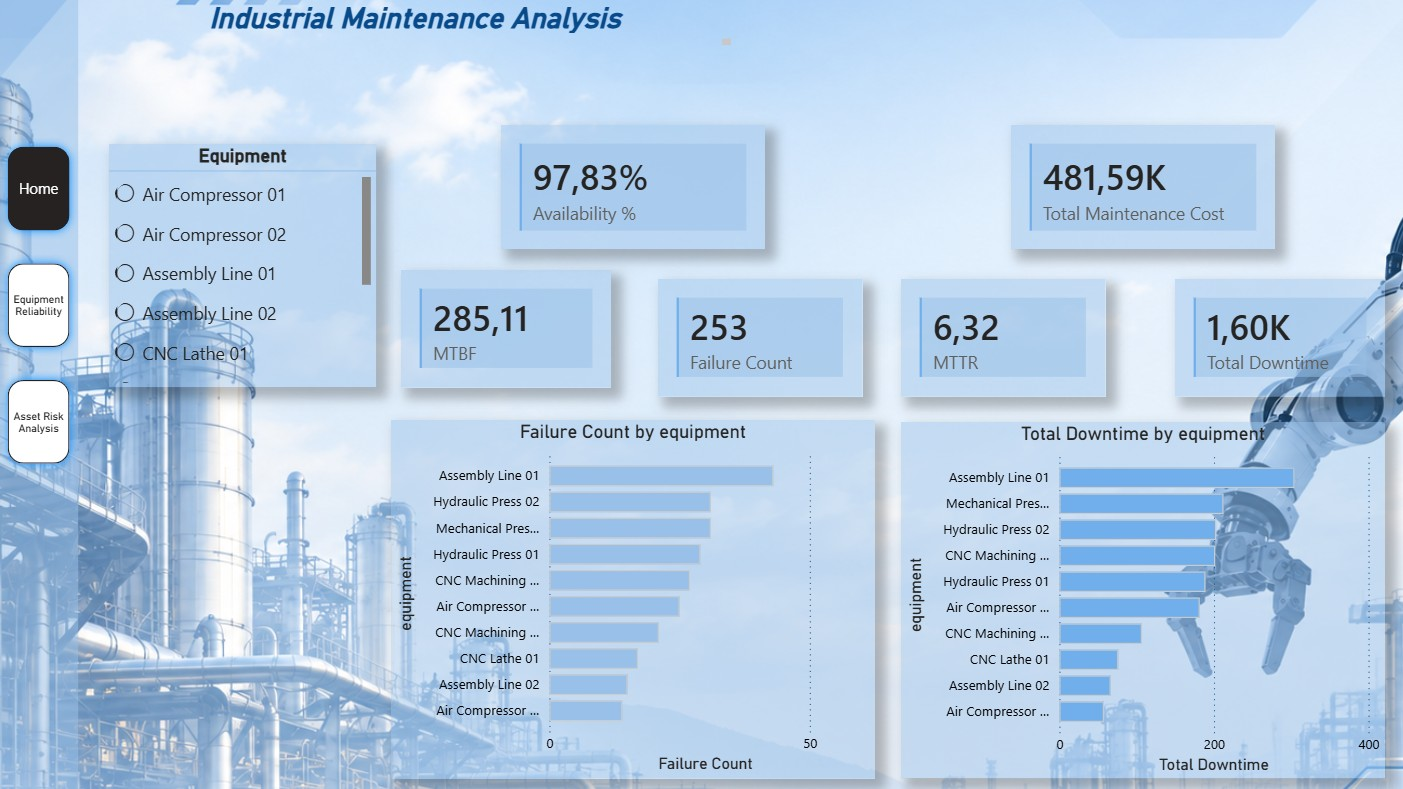

What the dashboard file says about the page in this screenshot:
{"tool":"powerbi","page":{"name":"Home","canvas":[1280,720],"ordinal":0},"visuals":[{"type":"cardVisual","fields":{"Data":["maintenance_orders.Failure Count"]},"box":[598.9,253.3,185.6,106.7],"z":0},{"type":"cardVisual","fields":{"Data":["maintenance_orders.Total Downtime"]},"box":[1068.9,253.3,191.1,106.7],"z":1000},{"type":"cardVisual","fields":{"Data":["maintenance_orders.Total Maintenance Cost"]},"box":[920,113.3,240,113.3],"z":2000},{"type":"cardVisual","fields":{"Data":["maintenance_orders.MTBF"]},"box":[365.6,245.6,191.1,106.7],"z":3000},{"type":"cardVisual","fields":{"Data":["maintenance_orders.MTTR"]},"box":[820,253.3,185.6,106.7],"z":4000},{"type":"cardVisual","fields":{"Data":["maintenance_orders.Availability %"]},"box":[456.7,113.3,240,113.3],"z":5000},{"type":"listSlicer","fields":{"Values":["equipment_master.equipment_name"]},"box":[100,131.1,243.3,221.1],"z":6000},{"type":"shape","box":[0,0,72.2,718.9],"z":7000},{"type":"barChart","fields":{"Category":["equipment_master.equipment_name"],"Y":["maintenance_orders.Failure Count"]},"box":[356.7,382.2,440,325.6],"z":8000},{"type":"barChart","fields":{"Category":["equipment_master.equipment_name"],"Y":["maintenance_orders.Total Downtime"]},"box":[820,383.3,440,324.4],"z":9000},{"type":"pageNavigator","box":[0,125.6,72.2,305.6],"z":10000},{"type":"textbox","title":"Industrial Maintenance Analysis","box":[186.7,0,484.4,45.6],"z":11000}]}

Visuals, with their boxes in screenshot pixels (x1, y1, x2, y2), scaled from the page's 1280x720 canvas onto the 1403x789 screenshot:
cardVisual - maintenance_orders.Failure Count: 656/278/860/395
cardVisual - maintenance_orders.Total Downtime: 1172/278/1381/395
cardVisual - maintenance_orders.Total Maintenance Cost: 1008/124/1271/248
cardVisual - maintenance_orders.MTBF: 401/269/610/386
cardVisual - maintenance_orders.MTTR: 899/278/1102/395
cardVisual - maintenance_orders.Availability %: 501/124/764/248
listSlicer - equipment_master.equipment_name: 110/144/376/386
shape: 0/0/79/788
barChart - equipment_master.equipment_name x maintenance_orders.Failure Count: 391/419/873/776
barChart - equipment_master.equipment_name x maintenance_orders.Total Downtime: 899/420/1381/776
pageNavigator: 0/138/79/473
"Industrial Maintenance Analysis" textbox: 205/0/736/50
